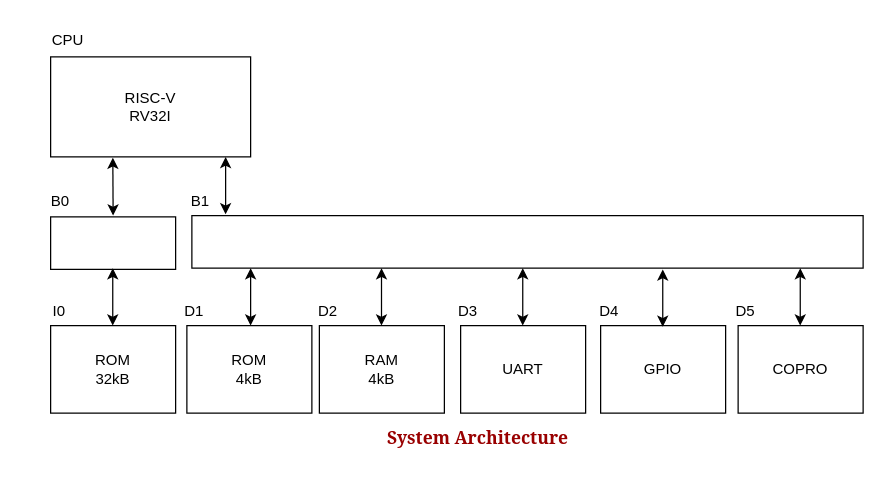
This 885x478 diagram has some shape labels left out. The centre of each missing label's shape, as x and y in pixels:
"Data Bus" belongs at (527,241).
"Instructions Bus" belongs at (112,242).
